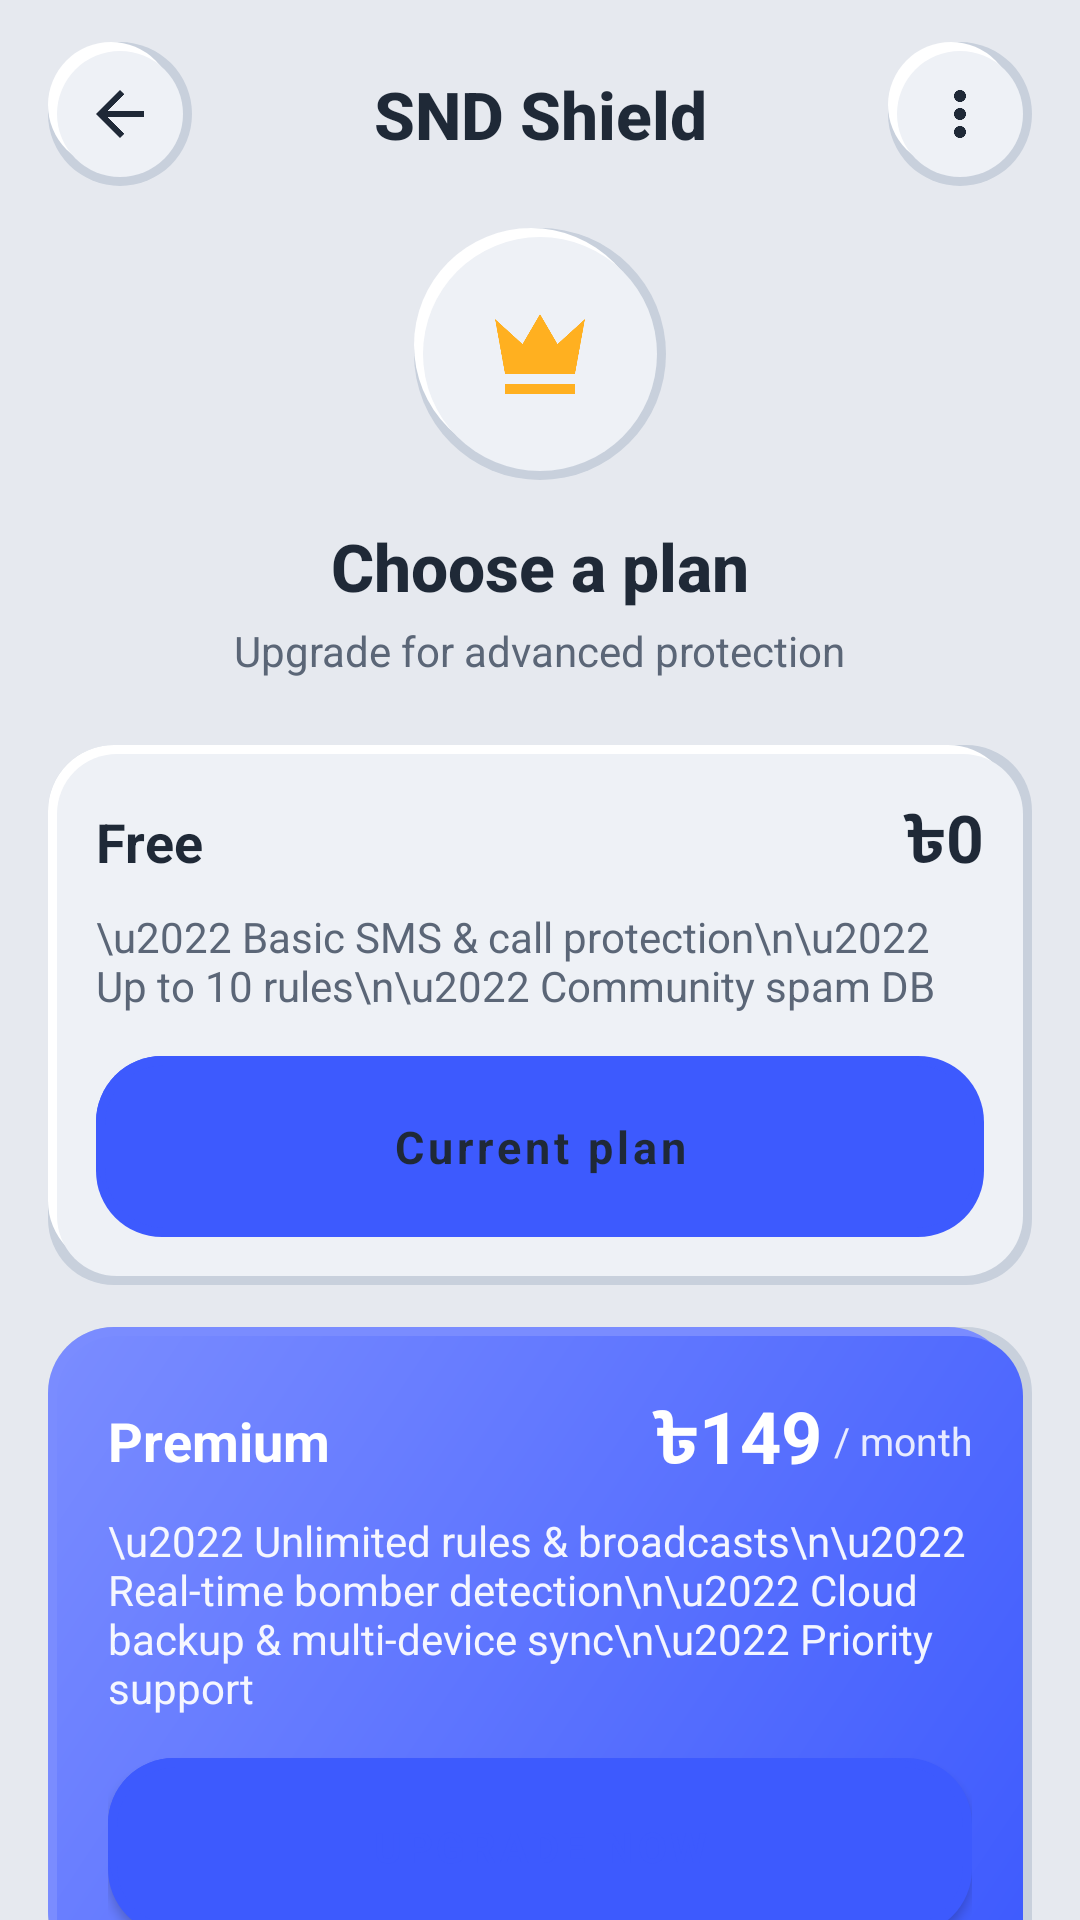

Screen size 1080x1920. Icon name, then its box in pixels as box(x1, y1, x2, y2):
Back: box(48, 42, 192, 186)
Premium: box(495, 315, 585, 394)
